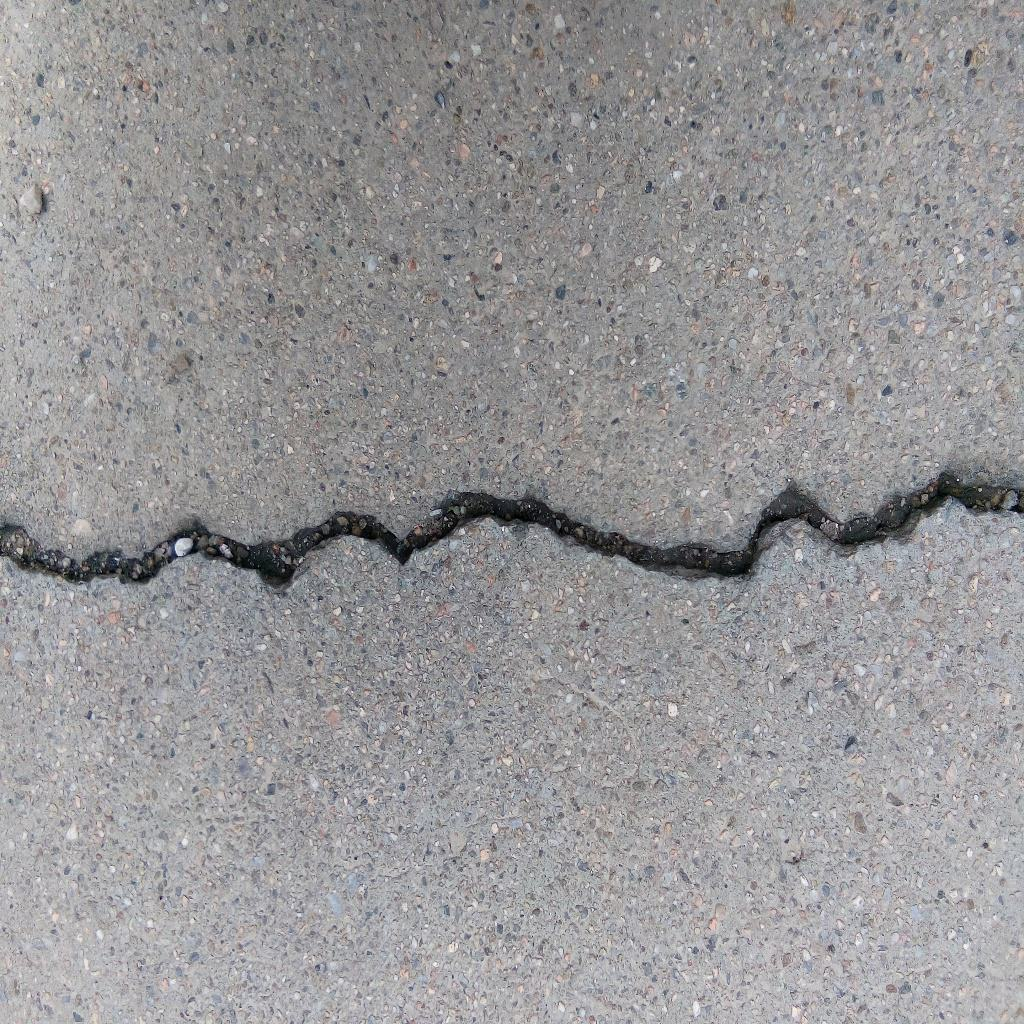Crack: (1, 472, 1024, 593)
